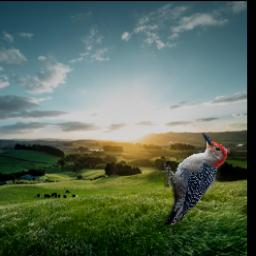Woodpecker: (164, 134, 230, 225)
